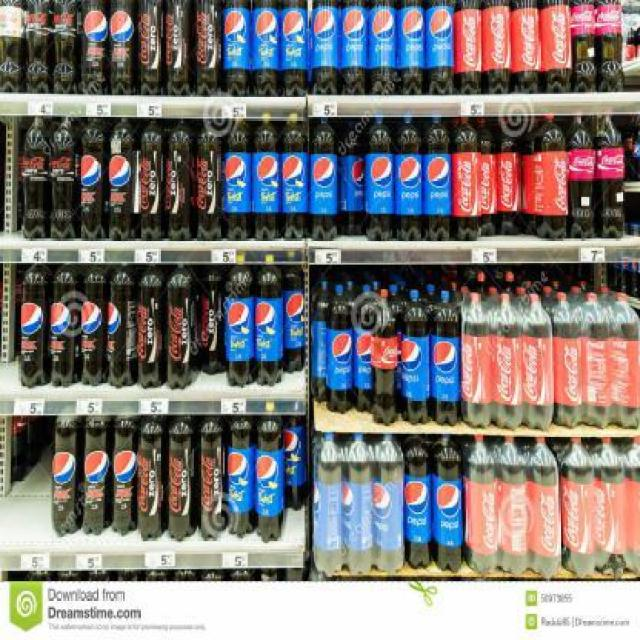Drinks: (462, 435, 498, 574), (593, 437, 627, 580), (560, 438, 594, 580), (528, 436, 561, 581), (522, 292, 555, 431), (497, 436, 529, 578), (533, 115, 569, 240), (313, 432, 344, 577), (343, 432, 374, 576), (491, 293, 523, 432), (373, 433, 404, 575), (550, 293, 582, 429), (461, 292, 492, 430), (399, 289, 430, 426), (432, 434, 462, 574), (166, 263, 199, 389), (582, 292, 612, 428), (19, 263, 50, 389), (50, 263, 81, 388), (370, 288, 398, 426), (168, 415, 198, 542), (198, 415, 228, 540), (612, 292, 639, 430), (594, 115, 624, 239), (52, 414, 82, 538), (431, 289, 458, 426), (422, 116, 452, 239), (308, 117, 338, 240), (254, 264, 284, 387), (325, 283, 353, 414), (404, 434, 431, 569), (138, 415, 167, 540), (51, 116, 80, 241), (137, 264, 166, 388), (108, 264, 137, 388), (227, 264, 256, 388), (256, 415, 284, 543), (138, 117, 167, 240), (80, 117, 109, 240), (167, 118, 196, 240), (194, 118, 223, 240), (452, 116, 480, 241), (22, 115, 50, 240), (567, 115, 595, 239), (366, 117, 394, 240), (110, 117, 138, 240), (82, 415, 110, 536), (81, 263, 108, 388), (280, 119, 308, 239), (228, 415, 255, 539), (394, 117, 421, 240), (224, 118, 251, 240), (252, 118, 279, 240), (338, 117, 365, 237), (111, 416, 138, 536), (165, 0, 197, 97), (50, 0, 82, 94), (540, 0, 572, 94), (354, 284, 377, 414), (496, 116, 521, 235), (199, 264, 226, 374), (192, 0, 223, 95), (280, 0, 309, 97), (251, 0, 280, 97), (511, 0, 540, 94), (482, 0, 511, 94), (136, 0, 164, 97), (595, 0, 624, 92), (453, 0, 481, 95), (368, 0, 396, 95), (224, 0, 251, 97), (82, 0, 109, 95), (425, 0, 452, 95), (397, 0, 424, 95), (340, 0, 367, 95), (312, 0, 339, 95), (475, 117, 496, 237), (24, 0, 50, 94), (284, 414, 308, 511), (0, 0, 25, 92), (284, 264, 305, 373), (110, 0, 134, 95), (571, 0, 595, 94)
